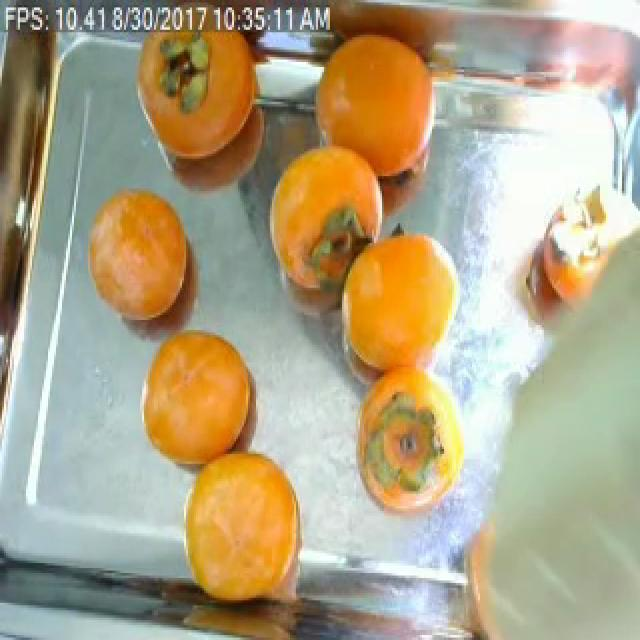Fruit: (324, 206, 478, 419), (122, 15, 282, 218), (164, 432, 318, 630), (74, 171, 216, 357), (340, 357, 482, 531), (128, 315, 272, 484)
